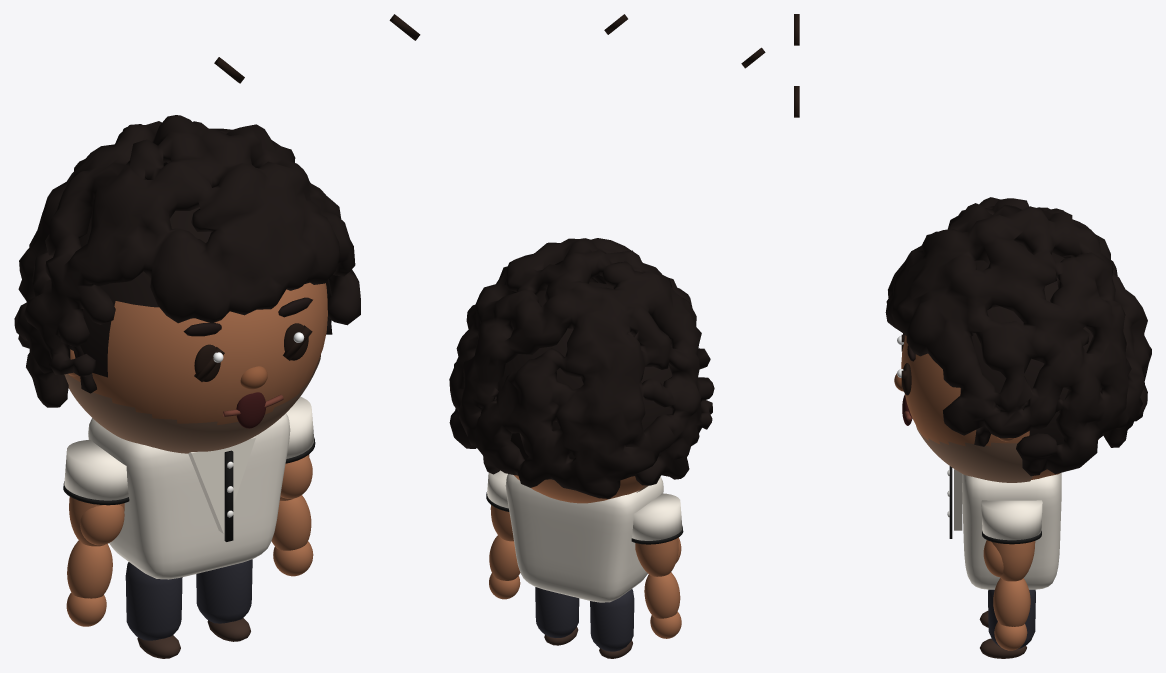
3 views of the same model, side by side, from view 1: azimuth 30°, elevation 25°; view 2: azimuth 150°, elevation 25°; view 3: azimuth 270°, elevation 25° (orthographic). The views are drawn at different scales.
Visible parts, largest first — view 1: Hair, HeadMesh, Body, Stubble, LegR.001, Scalp, ShortSleeveR, LegL.001, ShirtV, ForearmR, ForearmL, BicepR (+9 smaller); view 2: Hair, Body, Scalp, LegR.001, ShortSleeveR, LegL.001, ForearmR, HeadMesh, UpperArmR, ForearmL, ShortSleeveL, HandR (+2 smaller); view 3: Hair, Body, HeadMesh, Stubble, Scalp, ShortSleeveL, ForearmL, UpperArmL, LegL.001, HandL, ShoeL, ShirtV (+1 smaller).
Part boxes in pixels (x1,y1,x2,y2): Hair: (14,115,360,407); HeadMesh: (68,282,327,425); Body: (88,413,290,579); Stubble: (64,355,320,453); LegR.001: (125,562,182,640); Scalp: (74,207,331,377); ShortSleeveR: (64,440,128,500); LegL.001: (196,559,252,623); ShirtV: (188,436,255,533); ForearmR: (67,540,112,598); ForearmL: (271,495,311,550); BicepR: (80,505,124,545); Hair: (449,238,714,498); Body: (505,474,663,602); Scalp: (498,282,672,476); LegR.001: (590,589,634,651); ShortSleeveR: (632,493,682,540); LegL.001: (535,587,579,637); ForearmR: (644,572,680,618); HeadMesh: (514,475,644,503); UpperArmR: (635,538,678,576); ForearmL: (489,535,520,580); ShortSleeveL: (487,470,508,508); HandR: (650,611,681,638); Hair: (885,197,1151,476); Body: (962,472,1061,589); HeadMesh: (901,335,1098,479); Stubble: (916,426,1032,482); Scalp: (971,244,1103,444); ShortSleeveL: (981,500,1042,540); ForearmL: (993,578,1030,626); UpperArmL: (991,541,1035,581); LegL.001: (988,589,1035,649); HandL: (994,622,1027,650); ShoeL: (980,638,1026,658); ShirtV: (954,469,962,530).
Bounding box in the file's own units: 1.05 × 2.29 × 1.26.
